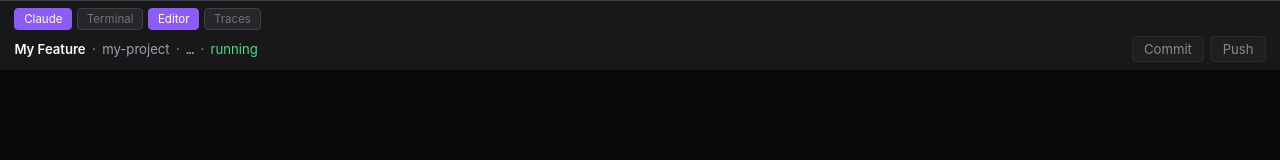
Test: WindowDetailPane › traces pane › clicking Traces shows traces pane
Click the button "Traces" at (232, 19), box x1=204 y1=8 x2=261 y2=30
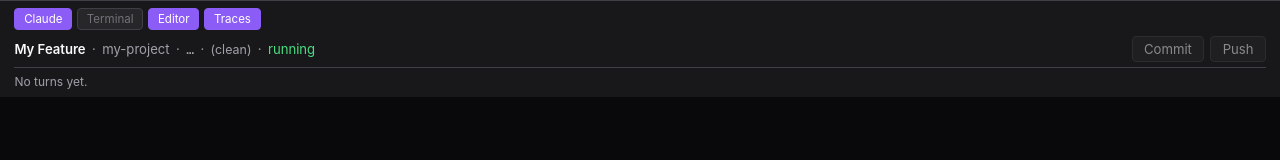
Check: the element with test id "traces-pane" is shown, box x1=14 y1=67 x2=1266 y2=89
